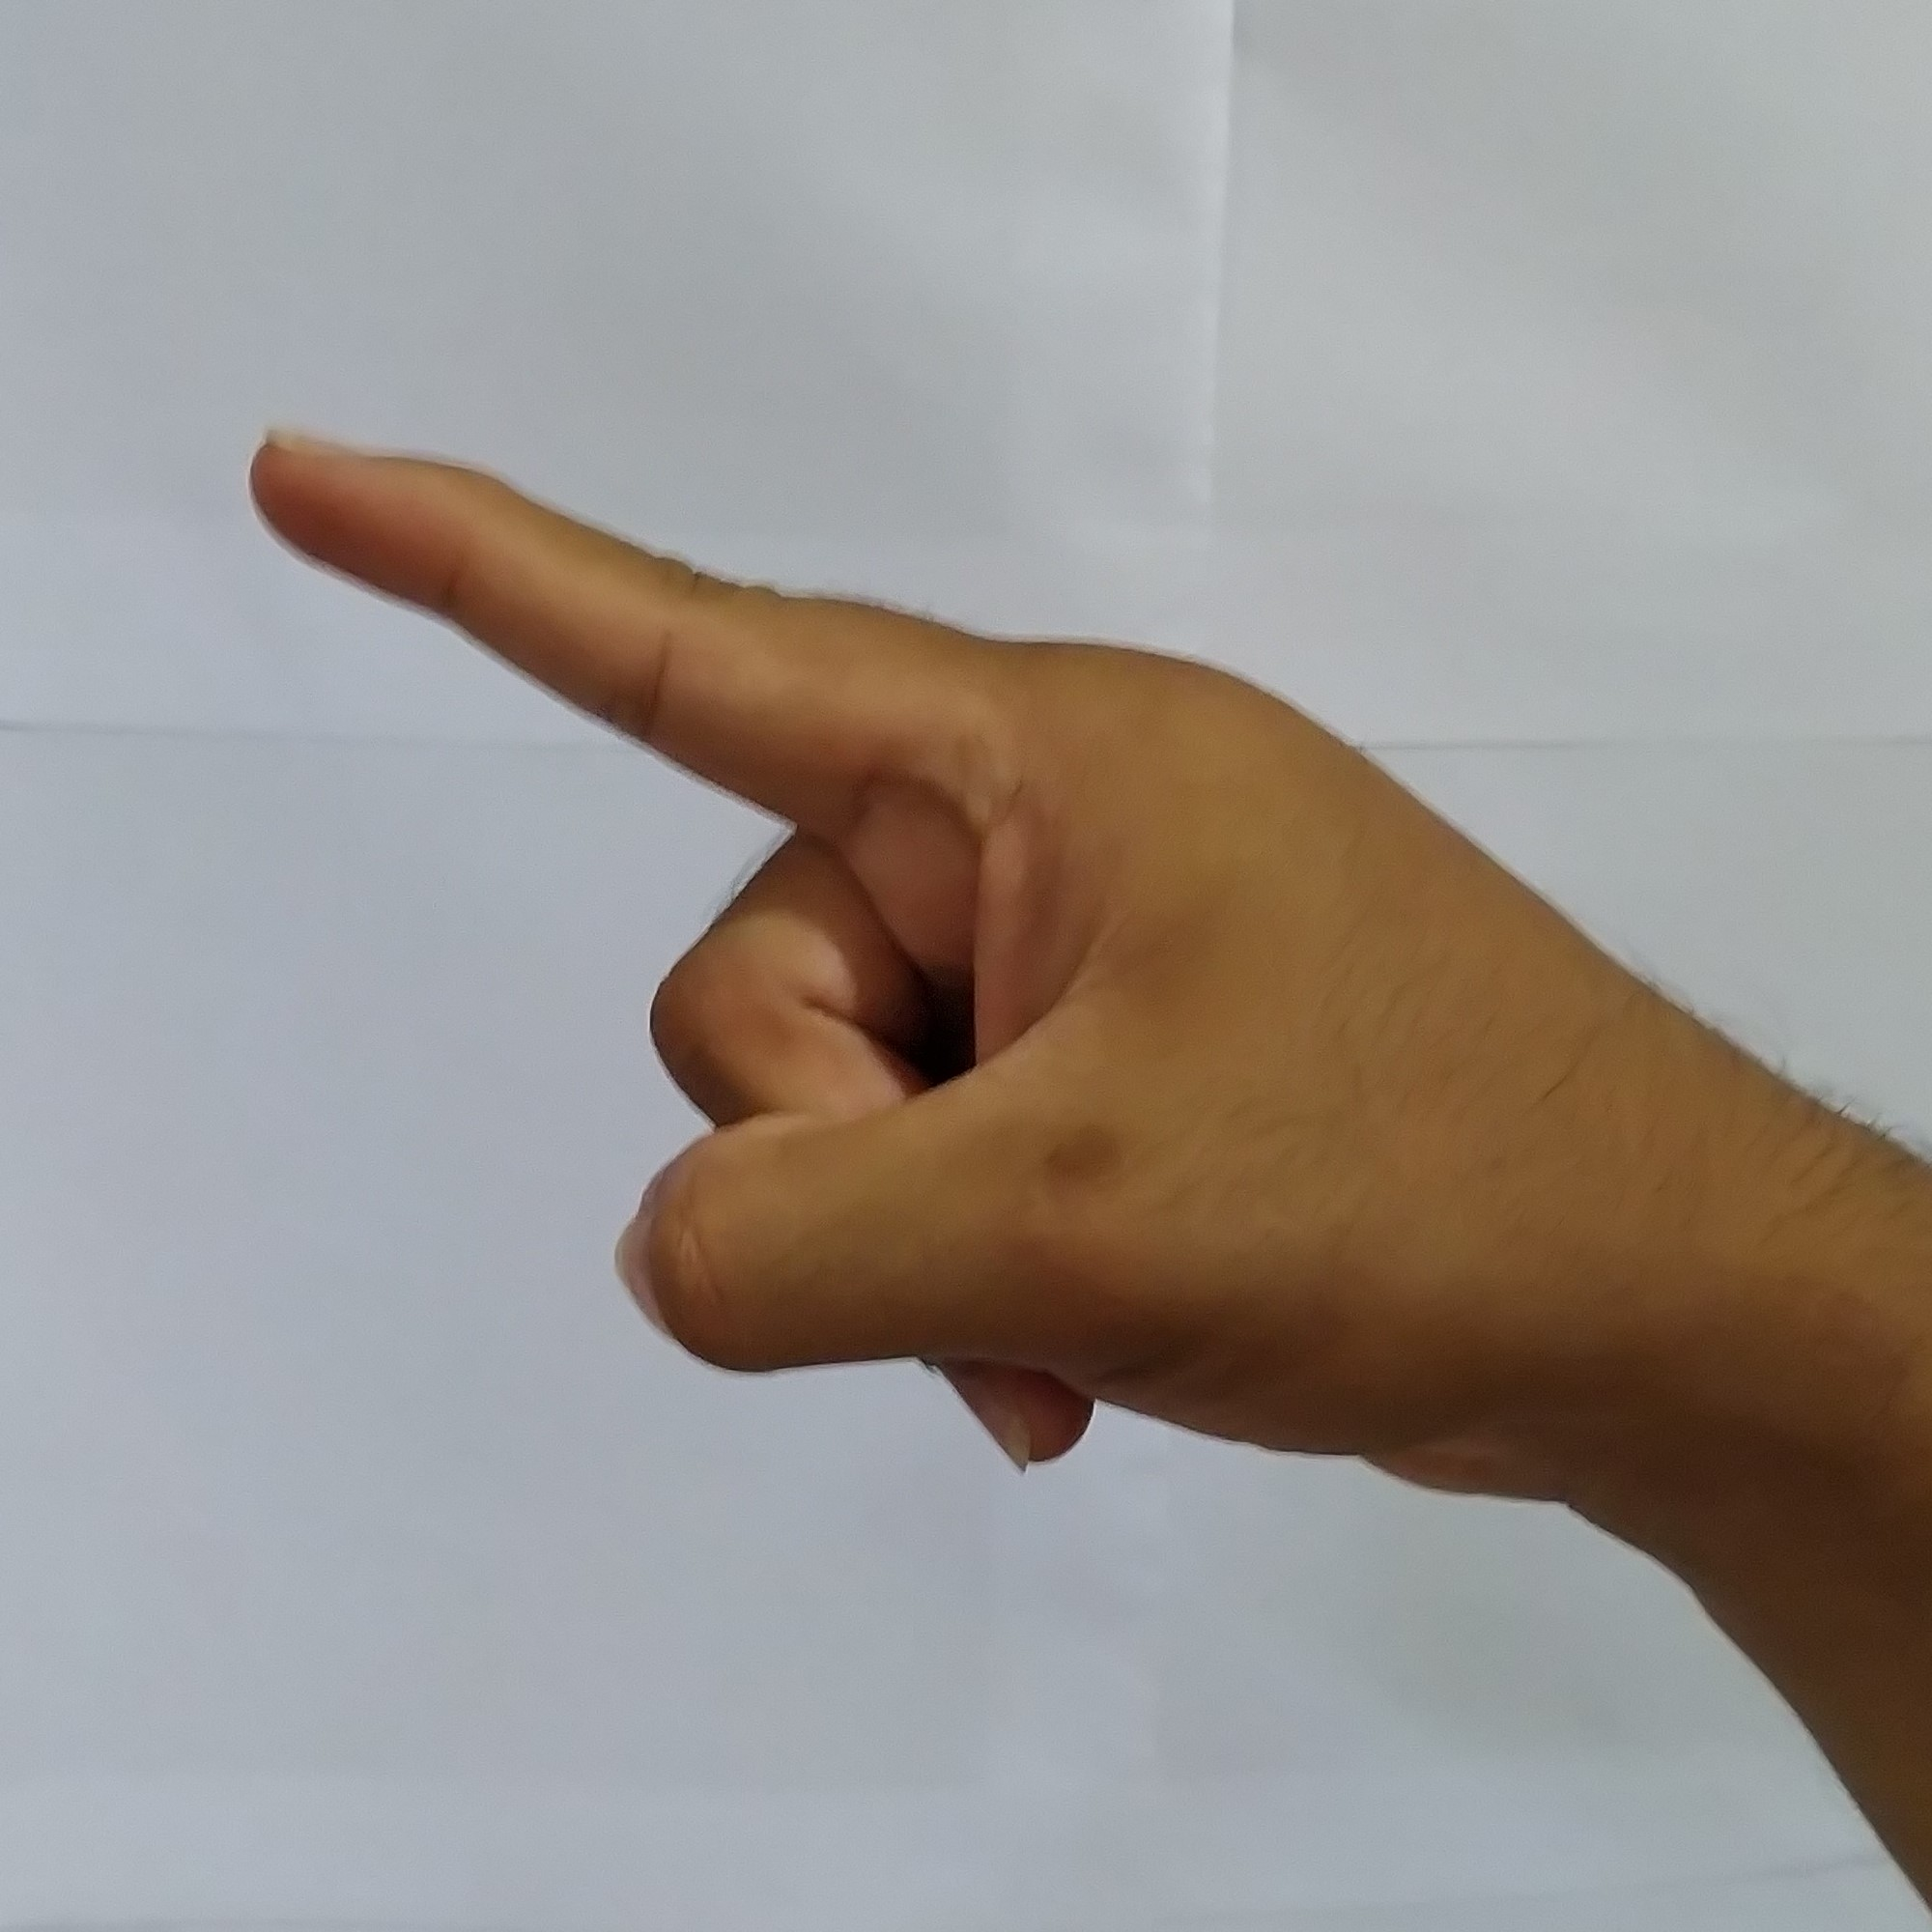Z: (218, 393, 1783, 1504)
